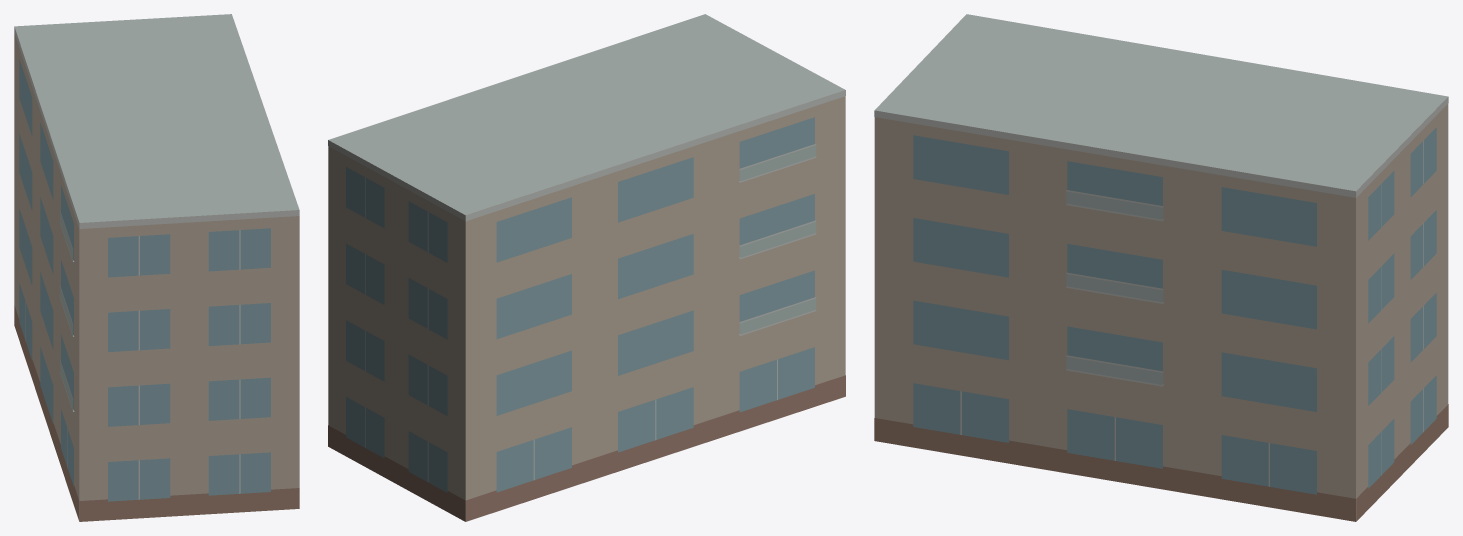
File: survey-upis-32972485.glb
The picture shows the model from 3 angles, left to right: view 1: azimuth 30°, elevation 25°; view 2: azimuth 150°, elevation 25°; view 3: azimuth 270°, elevation 25°; orthographic projection. The views are drawn at different scales.
Visible parts, largest first — view 1: survey-upis-32972485.tmp; view 2: survey-upis-32972485.tmp; view 3: survey-upis-32972485.tmp.
Boxes of the visible parts, <box> form: survey-upis-32972485.tmp: <box>14,14,299,521</box>; survey-upis-32972485.tmp: <box>328,14,845,521</box>; survey-upis-32972485.tmp: <box>874,14,1448,521</box>.
Bounding box in the file's own units: 14.04 × 12.2 × 19.21.
